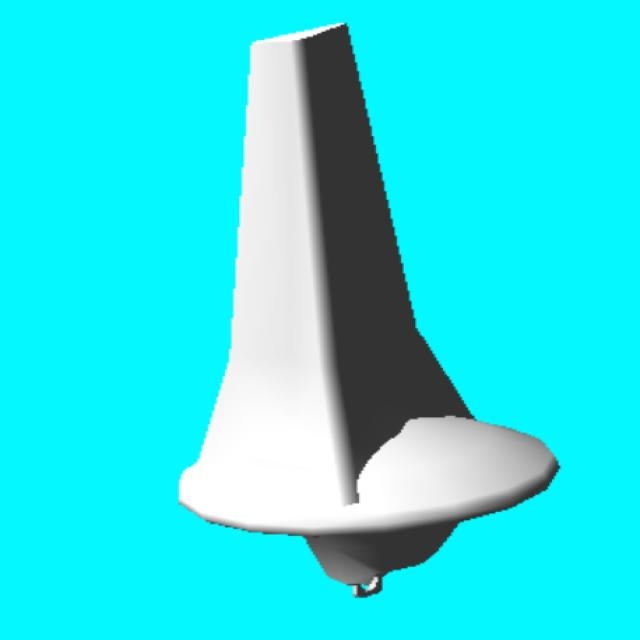WhiteBuoy: (179, 25, 558, 595)
